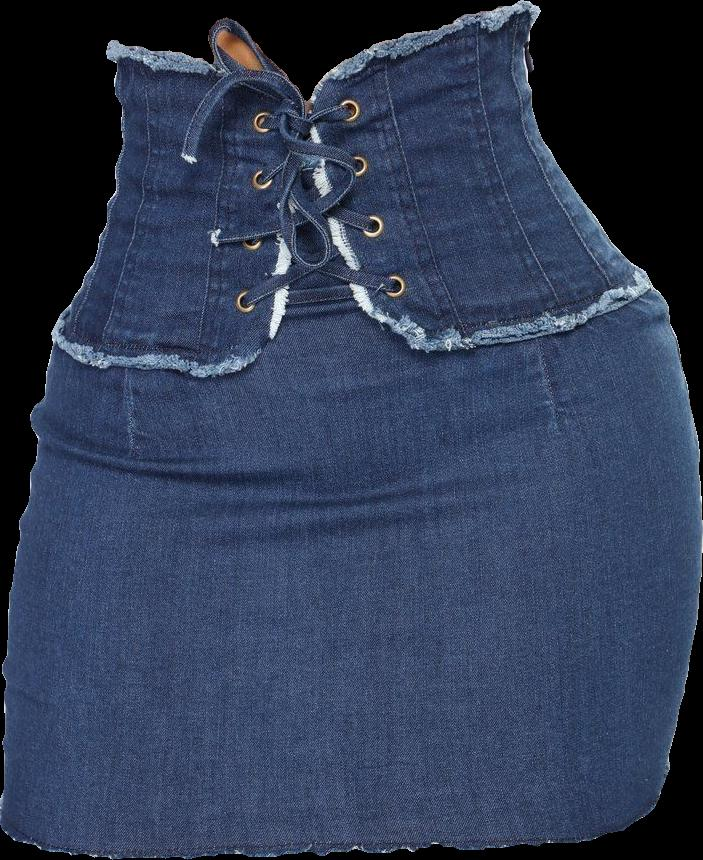Hemline: (0, 809, 655, 859)
Waistline: (49, 113, 645, 371), (104, 0, 536, 117)
